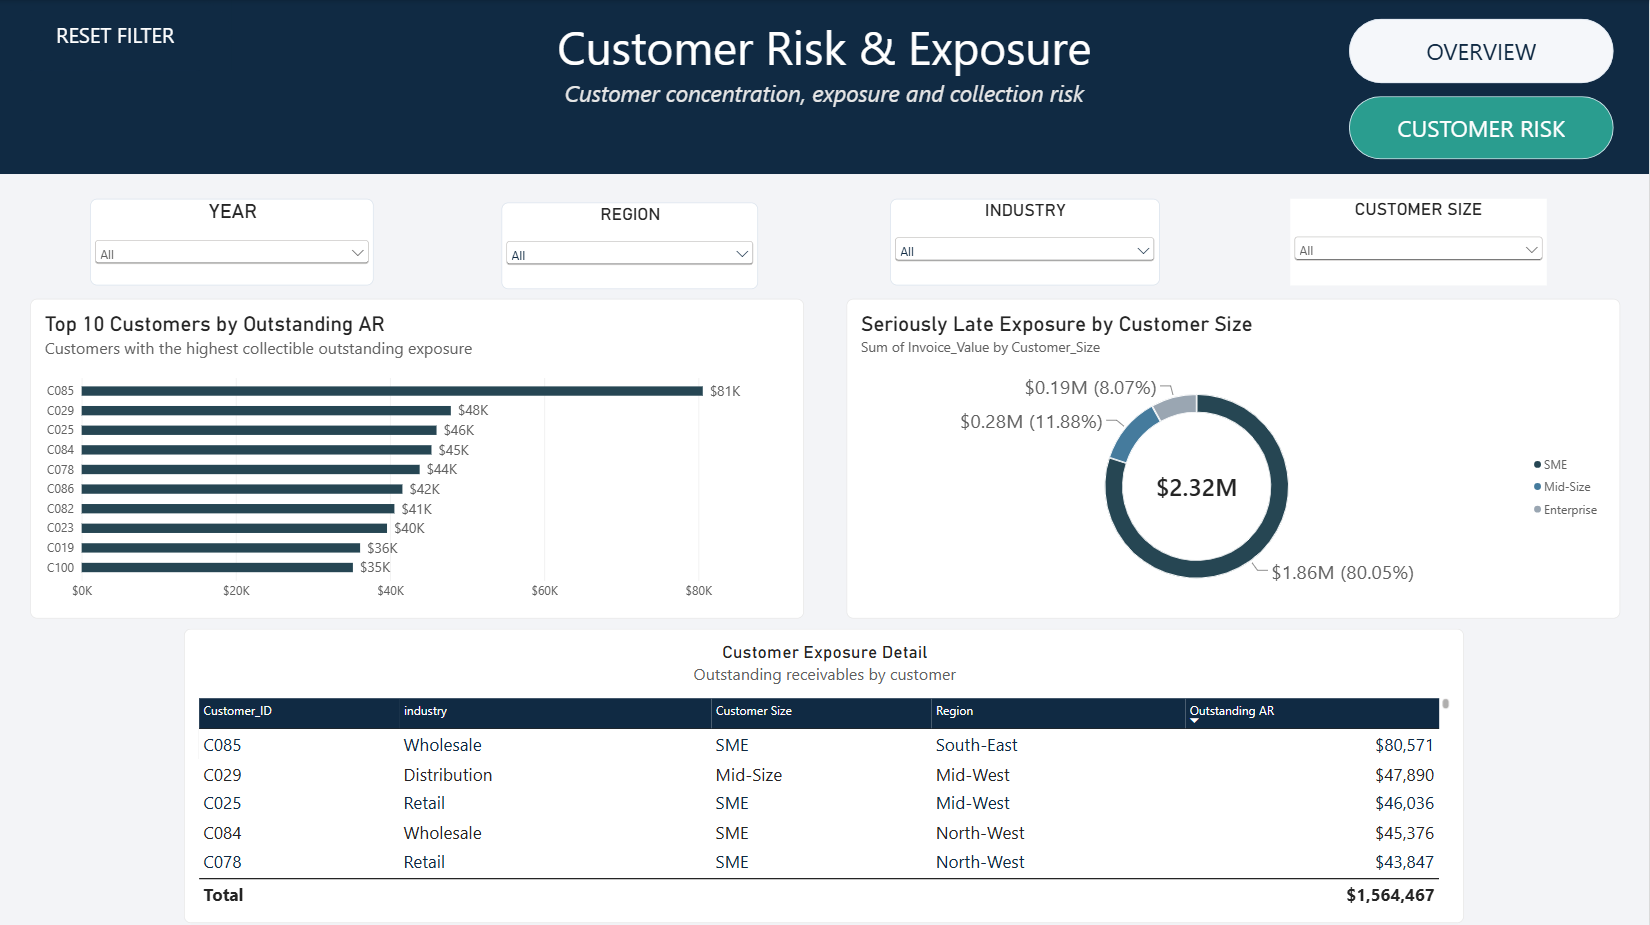

What the dashboard file says about the page in this screenshot:
{"tool":"powerbi","page":{"name":"Customer risk","canvas":[1920,1080],"ordinal":1},"visuals":[{"type":"clusteredBarChart","title":"Top 10 Customers by Outstanding AR","fields":{"Category":["customer_sql.customer_ID"],"Y":["customer_sql.Outstanding AR"]},"box":[36.6,348.1,900,371.9],"z":0},{"type":"donutChart","title":"Seriously Late Exposure by Customer Size","fields":{"Y":["Sum(invoices.Invoice_Value)"],"Category":["customer_sql.Customer_Size"]},"box":[985.6,348.1,900,371.9],"z":1000},{"type":"textbox","box":[0,0,1920,202.6],"z":2000},{"type":"actionButton","box":[1570.1,111.8,307.8,73.3],"z":3000},{"type":"actionButton","box":[1570.1,22,307.8,75.1],"z":4000},{"type":"slicer","title":"YEAR","fields":{"Values":["invoices.Year"]},"box":[106.3,230.8,329.8,100.8],"z":5000},{"type":"slicer","title":"REGION","fields":{"Values":["invoices.Region"]},"box":[585,235.1,298.6,100.8],"z":6000},{"type":"slicer","title":"INDUSTRY ","fields":{"Values":["invoices.industry"]},"box":[1036.3,230.8,313.3,100.8],"z":7000},{"type":"slicer","title":"CUSTOMER SIZE","fields":{"Values":["invoices.Customer Size"]},"box":[1502.3,230.8,298.6,100.8],"z":8000},{"type":"tableEx","title":"Customer Exposure Detail","fields":{"Values":["invoices.Customer_ID","invoices.industry","invoices.Customer Size","invoices.Region","customer_sql.Outstanding AR"]},"box":[215.5,731.7,1489,342.5],"z":9000},{"type":"actionButton","title":"RESET FILTER","box":[0,0,270.1,81.9],"z":9501}]}

Visuals, with their boxes in screenshot pixels (x1, y1, x2, y2), scaled from the page's 1920x1080 canvas onto the 1650x925 screenshot:
"Top 10 Customers by Outstanding AR" clusteredBarChart: region(31, 298, 805, 617)
"Seriously Late Exposure by Customer Size" donutChart: region(847, 298, 1620, 617)
textbox: region(0, 0, 1649, 174)
actionButton: region(1349, 96, 1614, 159)
actionButton: region(1349, 19, 1614, 83)
"YEAR" slicer: region(91, 198, 375, 284)
"REGION" slicer: region(503, 201, 759, 288)
"INDUSTRY " slicer: region(891, 198, 1160, 284)
"CUSTOMER SIZE" slicer: region(1291, 198, 1548, 284)
"Customer Exposure Detail" tableEx: region(185, 627, 1465, 920)
"RESET FILTER" actionButton: region(0, 0, 232, 70)
